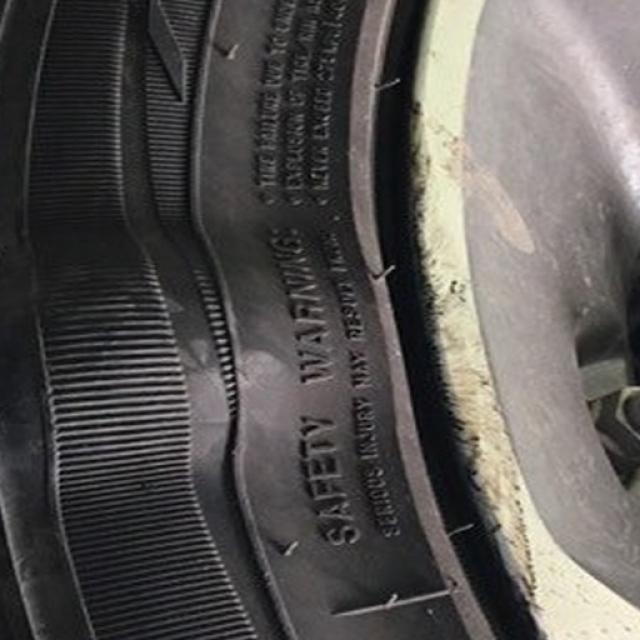Bulge: (0, 230, 359, 540)
